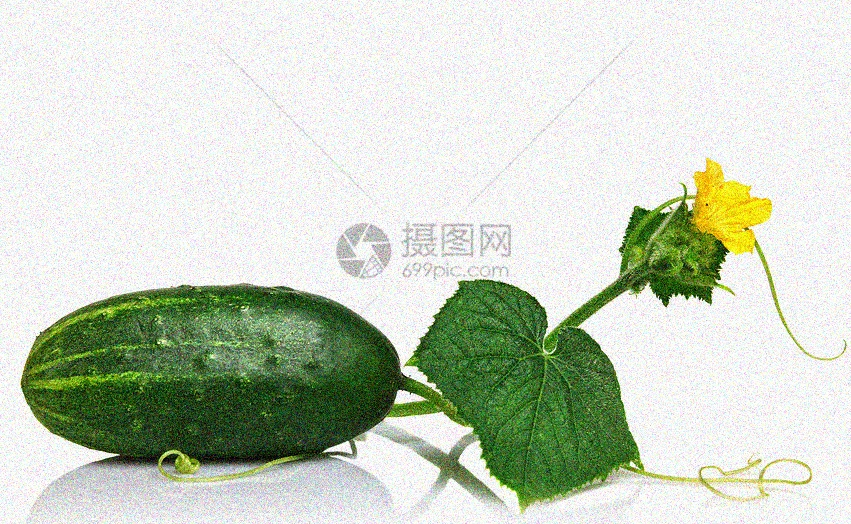cucumber: (20, 289, 404, 461)
cucumber_plant: (408, 139, 785, 500)
